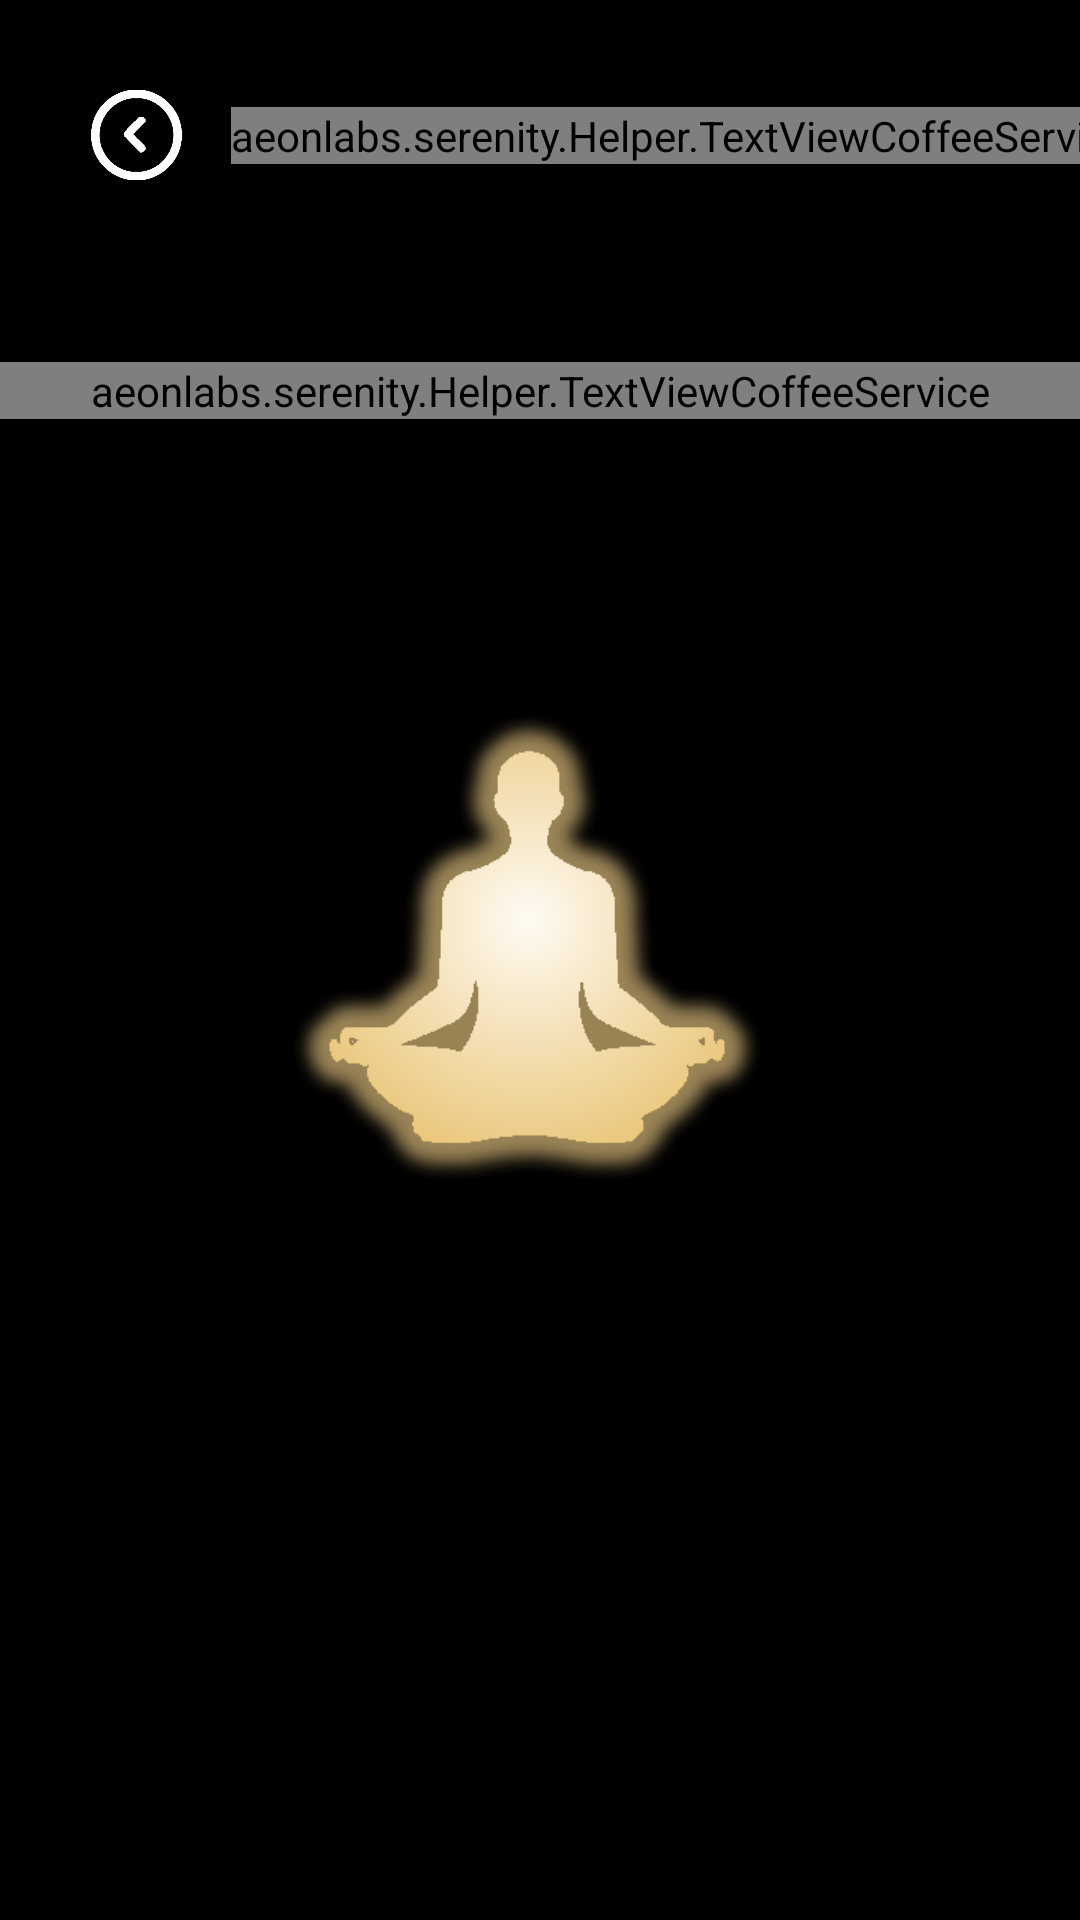

Screen size 1080 x 1920. Icon name, then its center in pixels as [x,y]:
back: [137,135]
